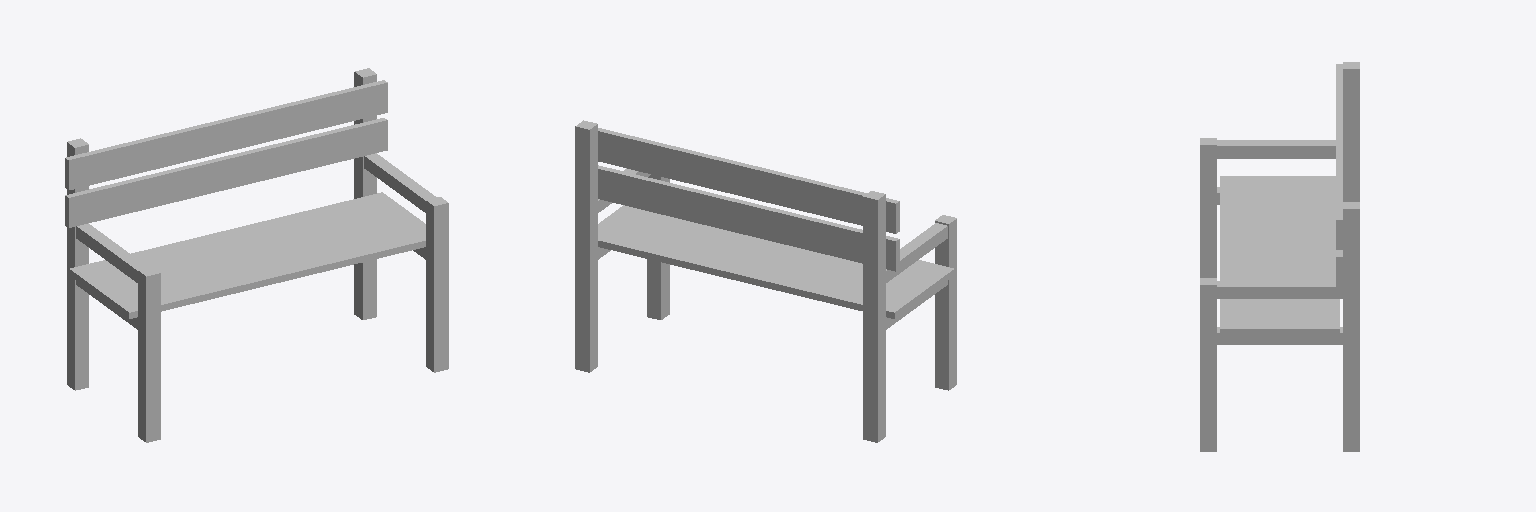
Rendered from medieval_bench_1_001.obj.
The picture shows the model from 3 angles: view 1: azimuth 30°, elevation 25°; view 2: azimuth 150°, elevation 25°; view 3: azimuth 270°, elevation 25°; orthographic projection.
Visible parts, largest first — view 1: Bench_Cube.008; view 2: Bench_Cube.008; view 3: Bench_Cube.008.
Part boxes in pixels (x1,y1,x2,y2): Bench_Cube.008: (65,68,448,442); Bench_Cube.008: (575,120,956,442); Bench_Cube.008: (1200,62,1359,451).
Size of the model in its own units: 1.53 by 1.11 by 0.6612.